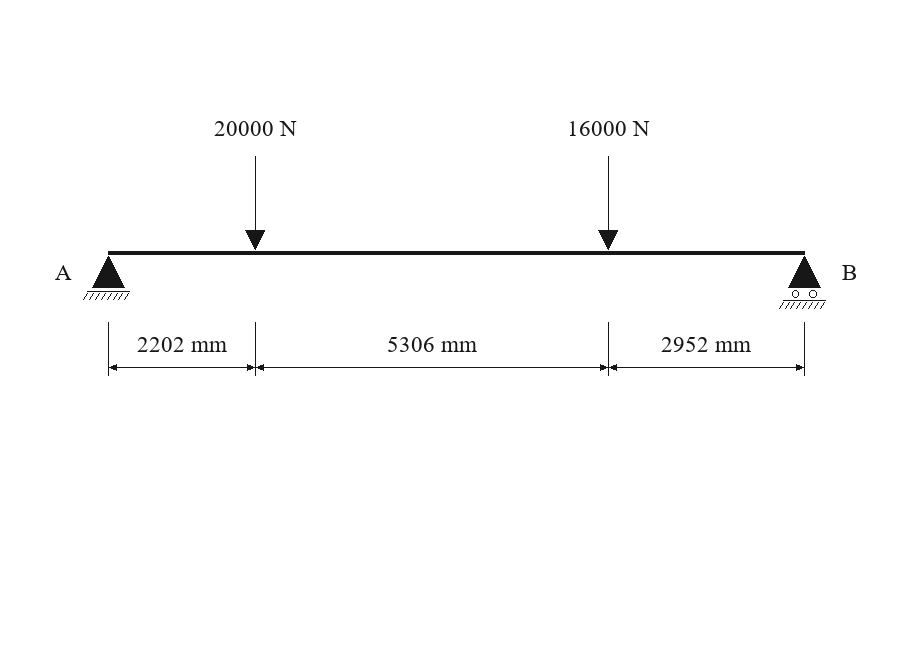pin_support: (83, 256, 130, 300)
point_load: (245, 156, 265, 250), (598, 156, 618, 250)
roller_support: (779, 256, 826, 309)
